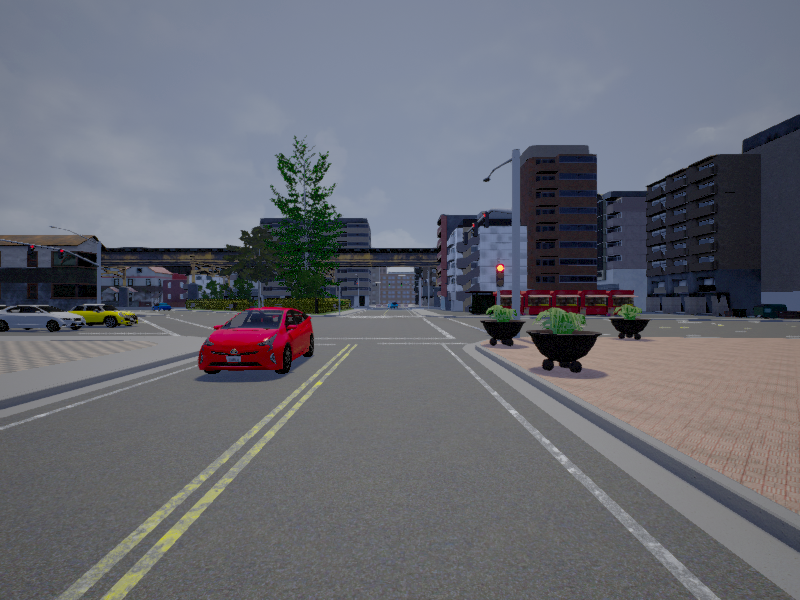Benign: (201, 308, 314, 374), (1, 301, 84, 330), (66, 303, 139, 328), (151, 302, 173, 314), (388, 301, 400, 311)
